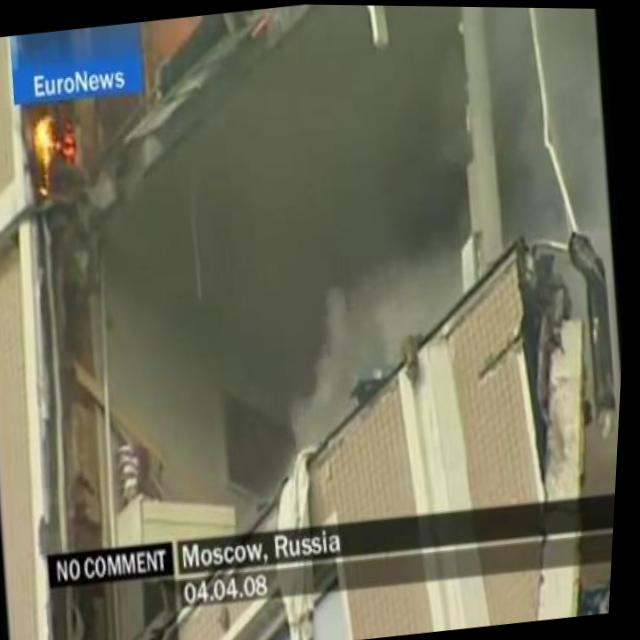fire: (26, 97, 91, 197)
